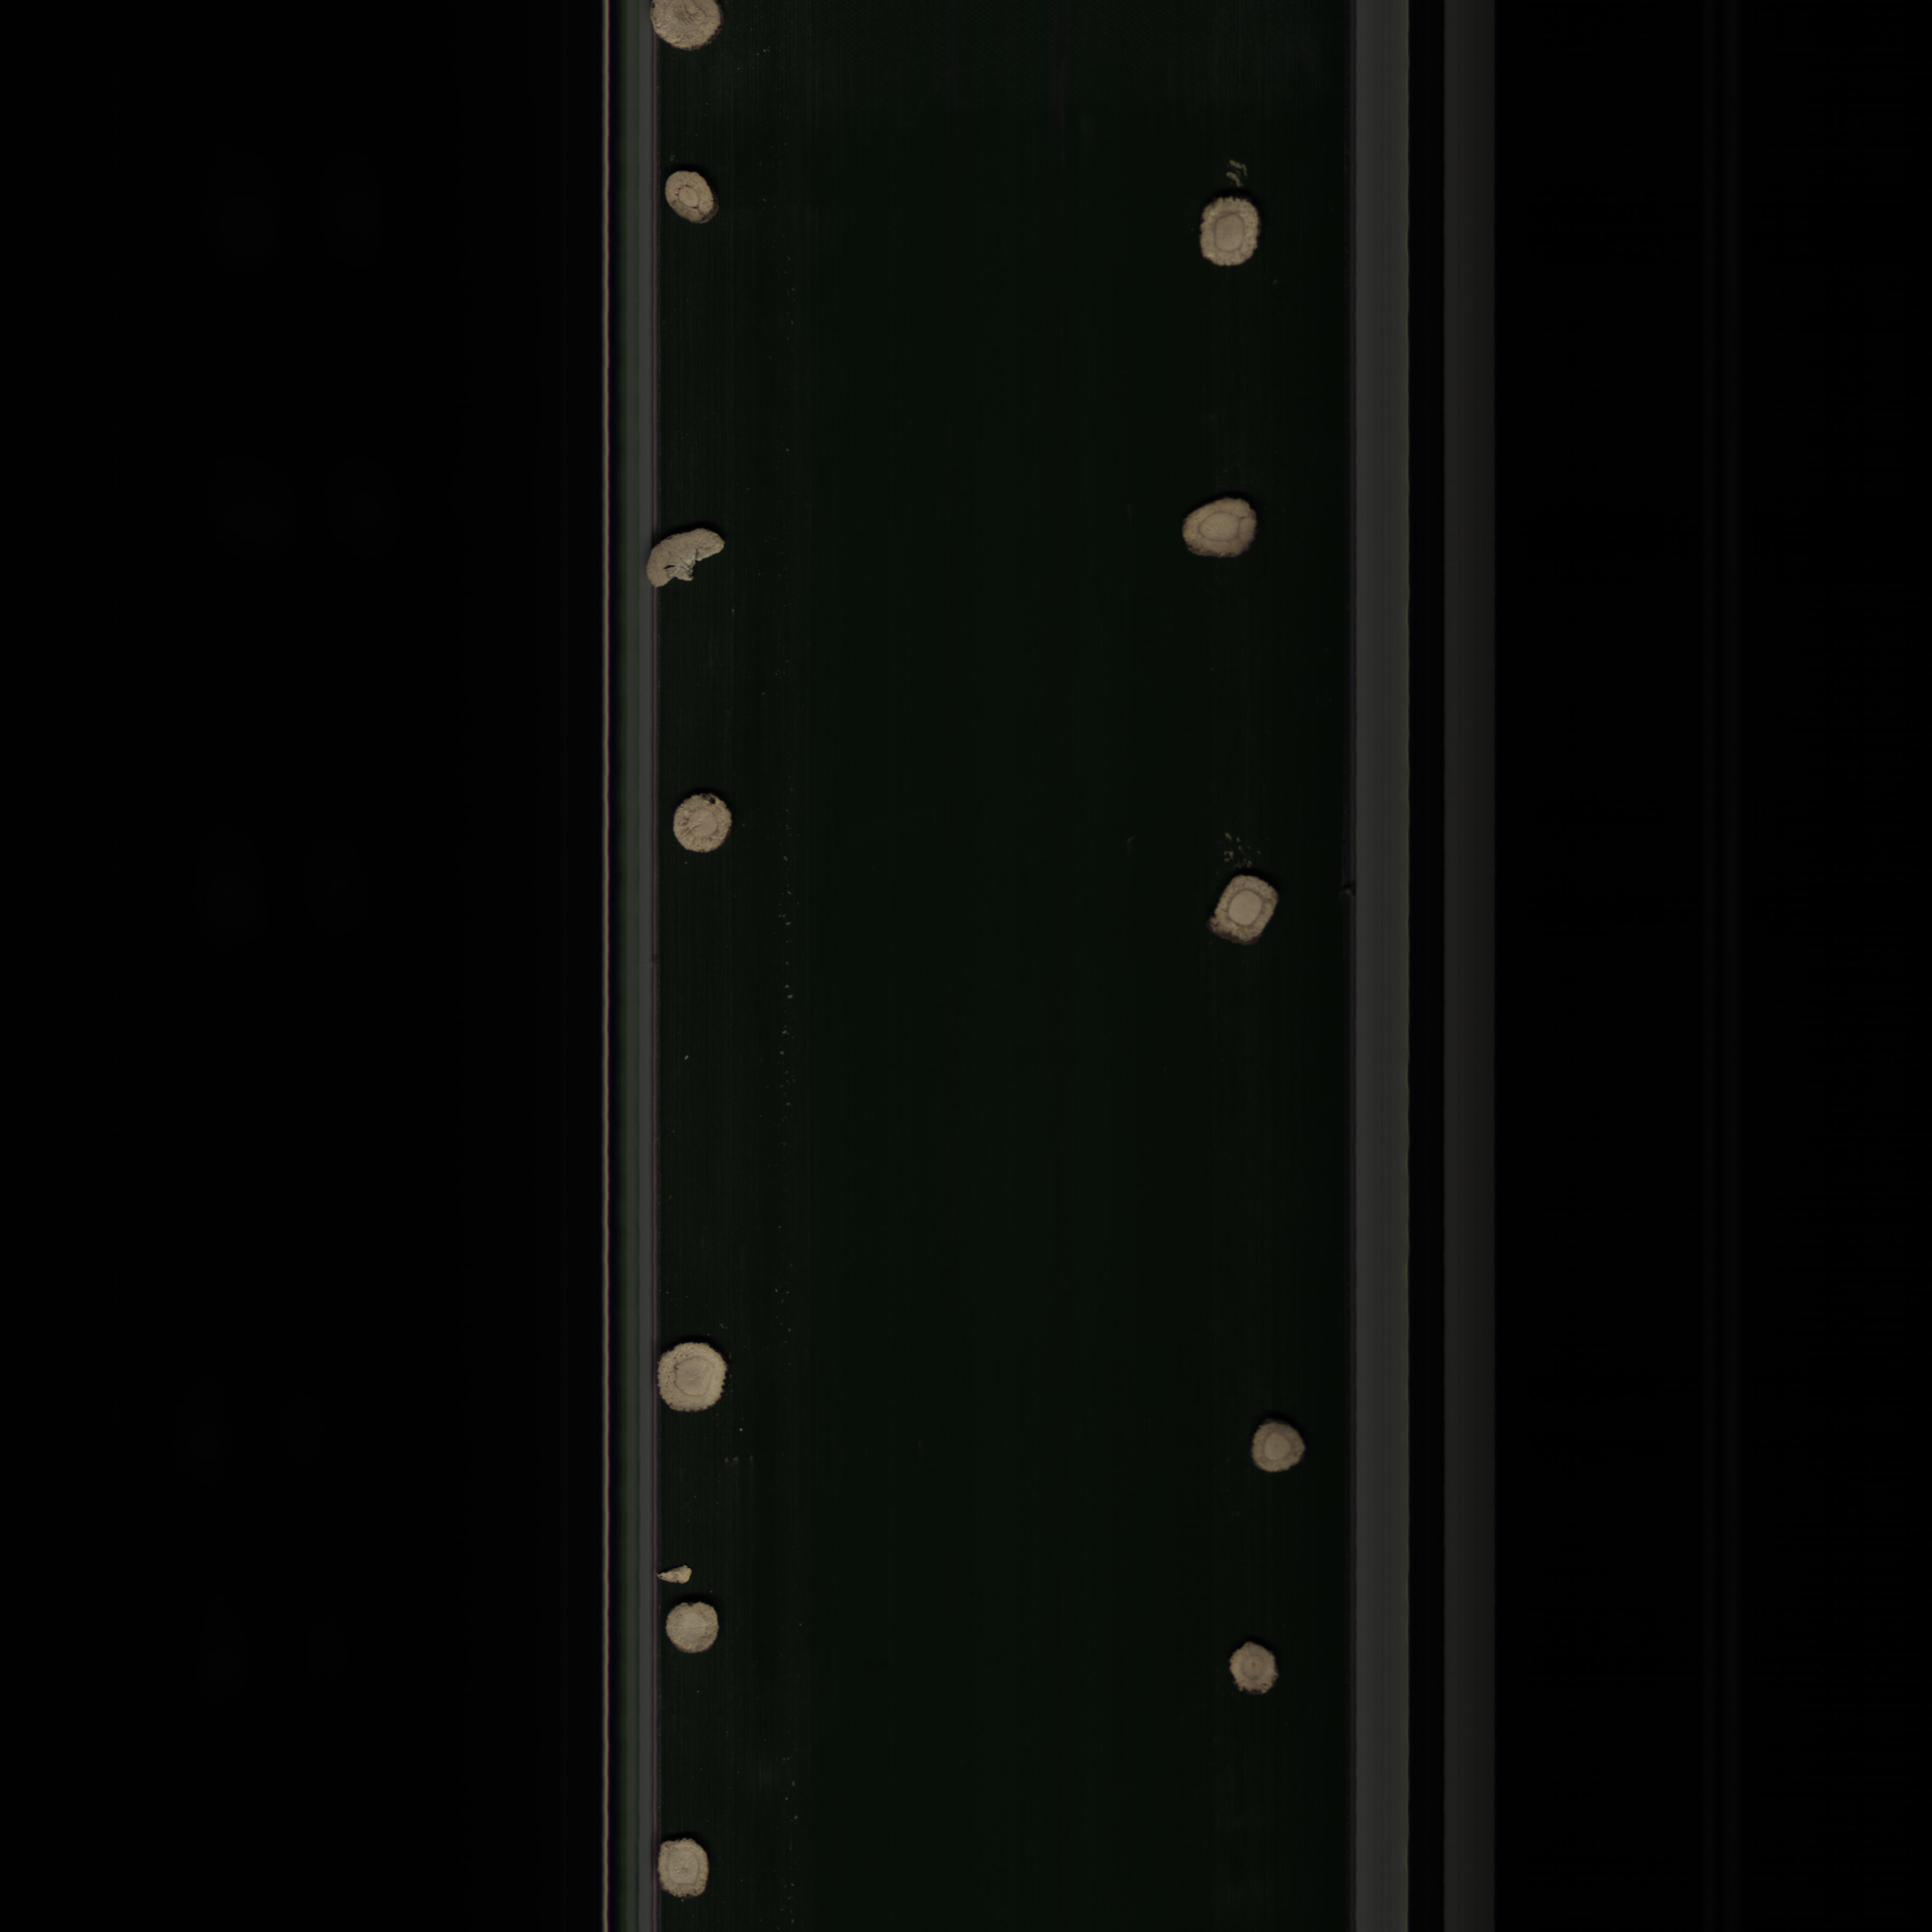debris: (642, 527, 732, 591), (653, 1560, 701, 1591)
